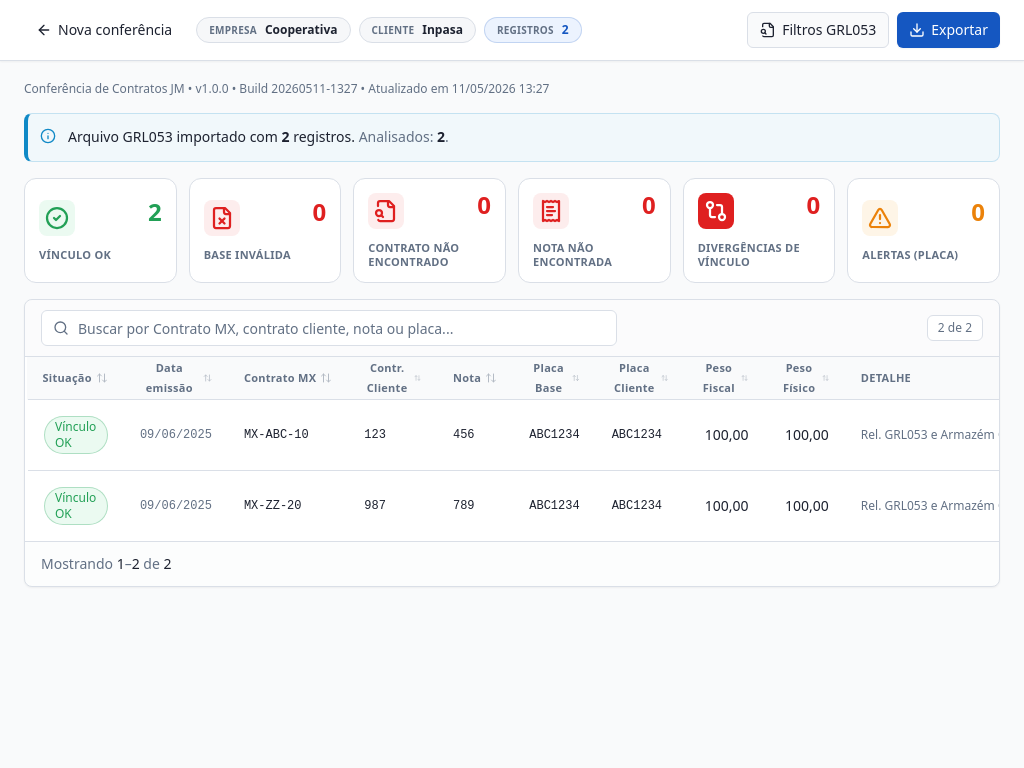
Test: ResultsScreen Contrato MX › exibe a coluna Contrato MX e localiza registros pela busca global
Expected: the text "Contrato MX" is shown, [244,368,316,388]
Expected: the text "MX-ABC-10" is shown, [228,400,348,471]
Type "ABC-10" into the field with placeholder "Buscar por Contrato MX, contrato cliente, nota ou placa..." at (329, 328), box [41,310,617,346]
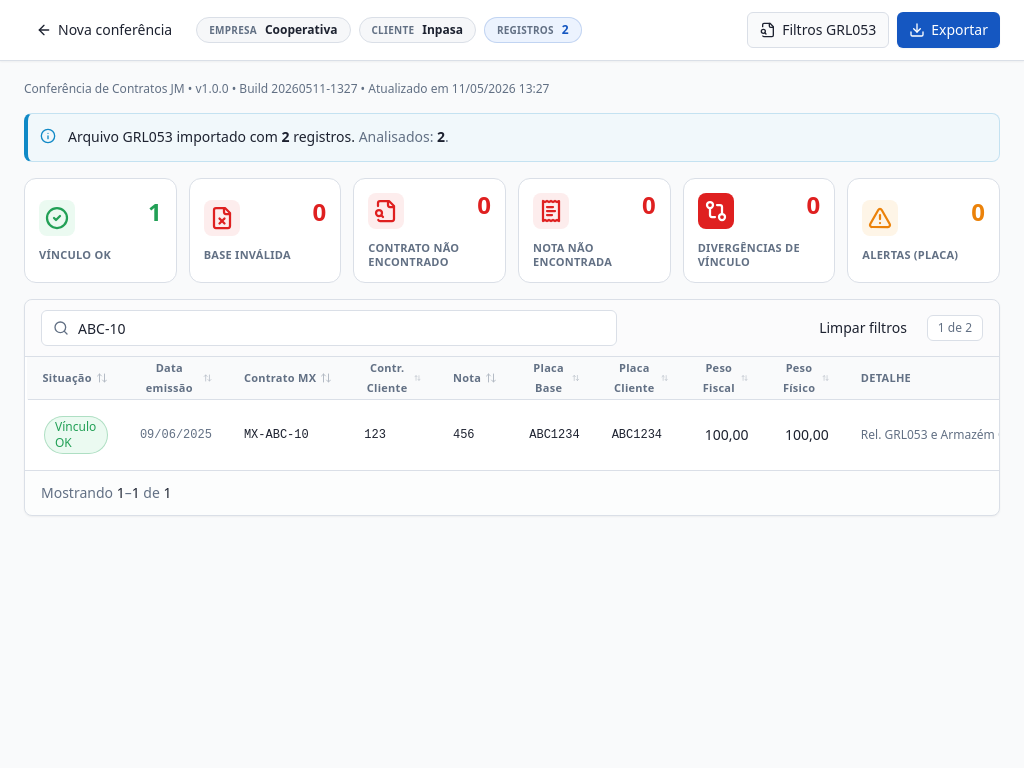
Expected: the text "MX-ABC-10" is shown, [228,400,348,470]
Expected: the text "MX-ZZ-20" is gone
